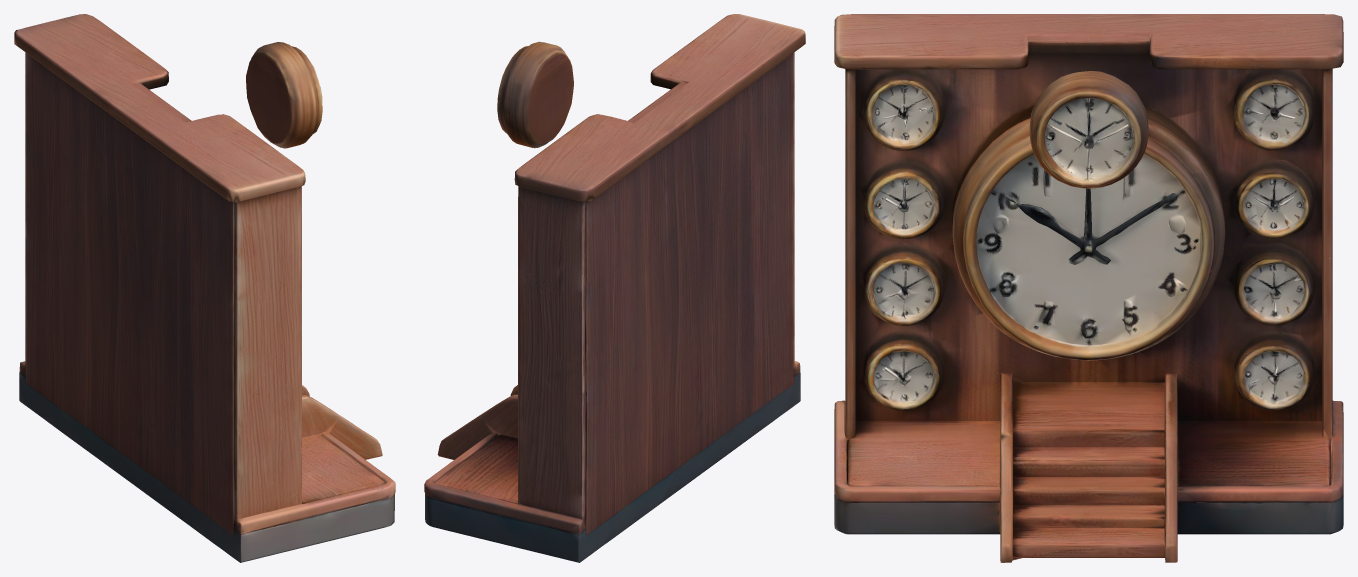
Rendered from clock1.fbx.
3 renders of one model, left to right at view 1: azimuth 30°, elevation 25°; view 2: azimuth 150°, elevation 25°; view 3: azimuth 270°, elevation 25°, orthographic. The views are drawn at different scales.
Visible parts, largest first — view 1: tripo_node_81d250e3; view 2: tripo_node_81d250e3; view 3: tripo_node_81d250e3.
Boxes of the visible parts, x1,y1,x2,y2 form: tripo_node_81d250e3: (14,14,395,562); tripo_node_81d250e3: (424,14,805,562); tripo_node_81d250e3: (834,14,1343,562).
Bounding box in the file's own units: 0.5804 × 0.9895 × 0.9999.
1 material, 1 textured.
